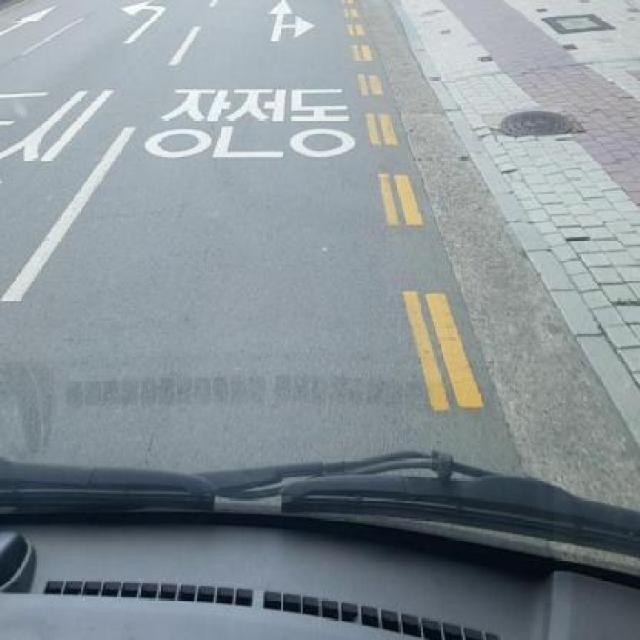Manhole: (488, 110, 588, 138)
